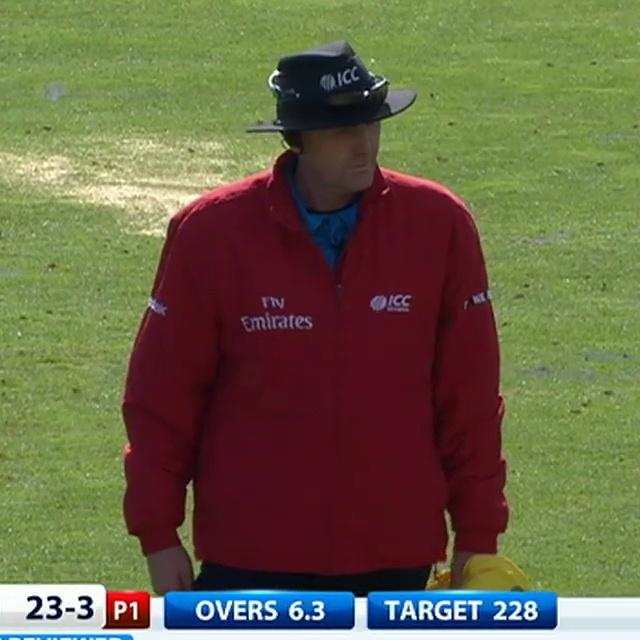umpire: (92, 9, 550, 596)
